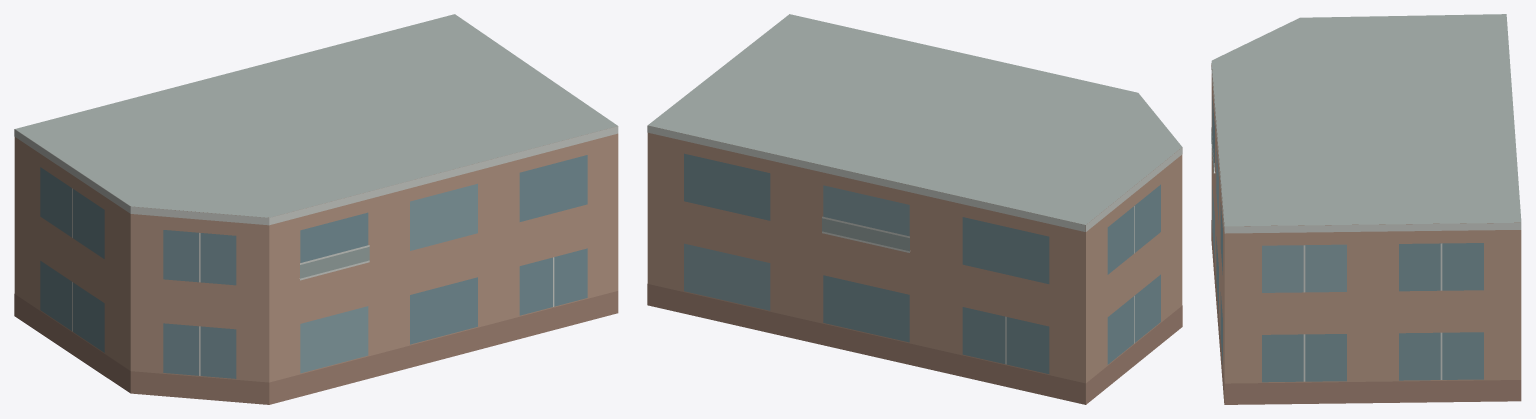
Rendered from survey-upis-33044702.glb.
3 views of the same model, side by side, from view 1: azimuth 30°, elevation 25°; view 2: azimuth 150°, elevation 25°; view 3: azimuth 270°, elevation 25° (orthographic). The views are drawn at different scales.
Parts seen in each view (by area): view 1: survey-upis-33044702.tmp; view 2: survey-upis-33044702.tmp; view 3: survey-upis-33044702.tmp.
Boxes of the visible parts, x1=… form: survey-upis-33044702.tmp: x1=14, y1=14, x2=618, y2=404; survey-upis-33044702.tmp: x1=647, y1=14, x2=1182, y2=404; survey-upis-33044702.tmp: x1=1211, y1=14, x2=1521, y2=404.
Size of the model in its own units: 15.57 by 6.1 by 9.61.
